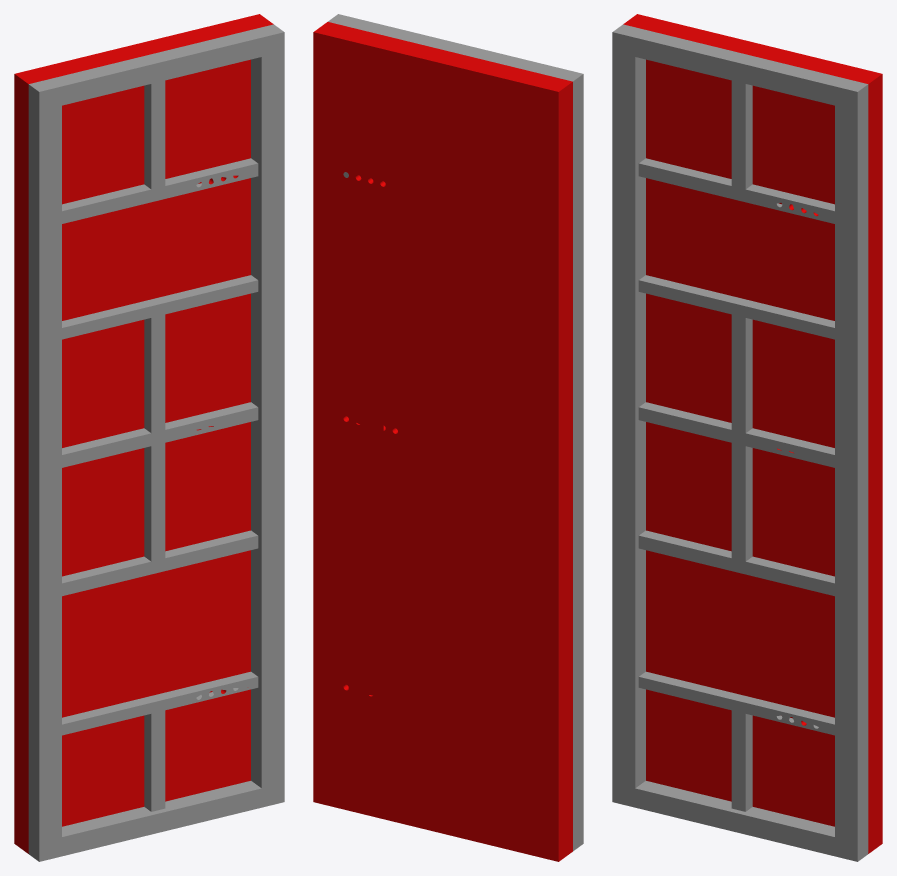
The model's file is Column.fbx.
3 views of the same model, side by side, from view 1: azimuth 30°, elevation 25°; view 2: azimuth 150°, elevation 25°; view 3: azimuth 330°, elevation 25° (orthographic).
Visible parts, largest first — view 1: Cube; view 2: Cube; view 3: Cube.
Part boxes in pixels (x1,y1,x2,y2): Cube: (14, 14, 284, 861); Cube: (313, 14, 583, 861); Cube: (612, 14, 882, 861).
Size of the model in its own units: 200 by 600 by 35.
